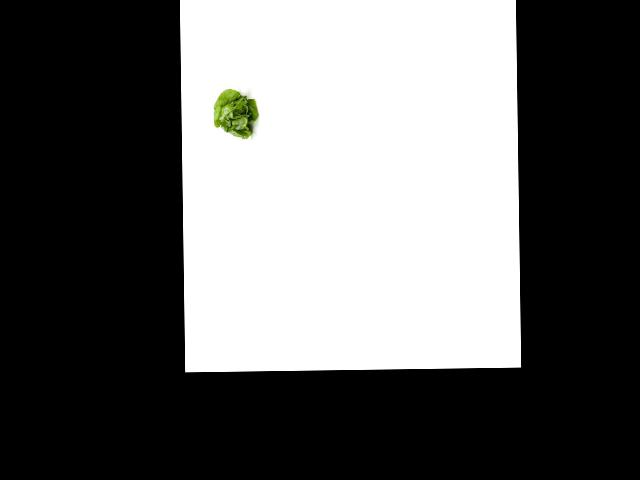lettuce: (209, 87, 261, 140)
